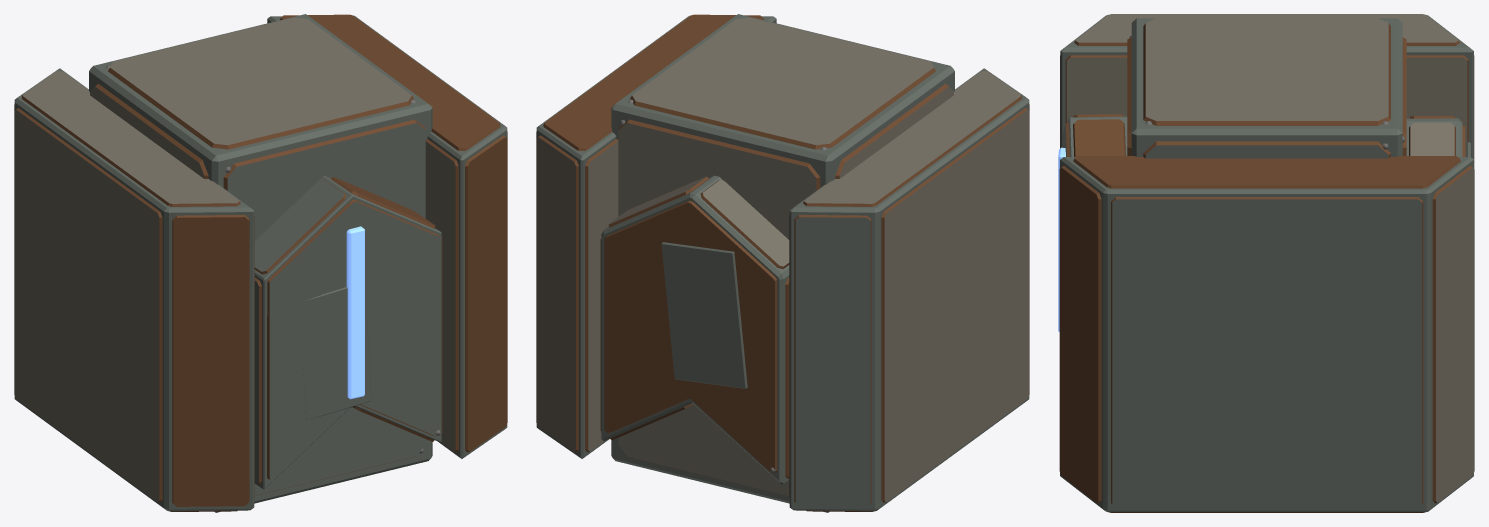
The model's file is R4X_HullBooster.fbx.
3 renders of one model, left to right at view 1: azimuth 30°, elevation 25°; view 2: azimuth 150°, elevation 25°; view 3: azimuth 270°, elevation 25°, orthographic. The views are drawn at different scales.
Parts seen in each view (by area): view 1: R4X_HullBooster_Body; view 2: R4X_HullBooster_Body; view 3: R4X_HullBooster_Body.
Boxes of the visible parts, x1,y1,x2,y2 form: R4X_HullBooster_Body: (14,14,507,512); R4X_HullBooster_Body: (536,14,1029,512); R4X_HullBooster_Body: (1058,14,1474,512).
Bounding box in the file's own units: 0.52 × 0.52 × 0.5067.
